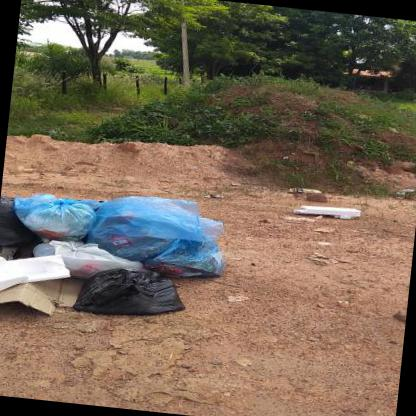lixo: (0, 189, 207, 326)
